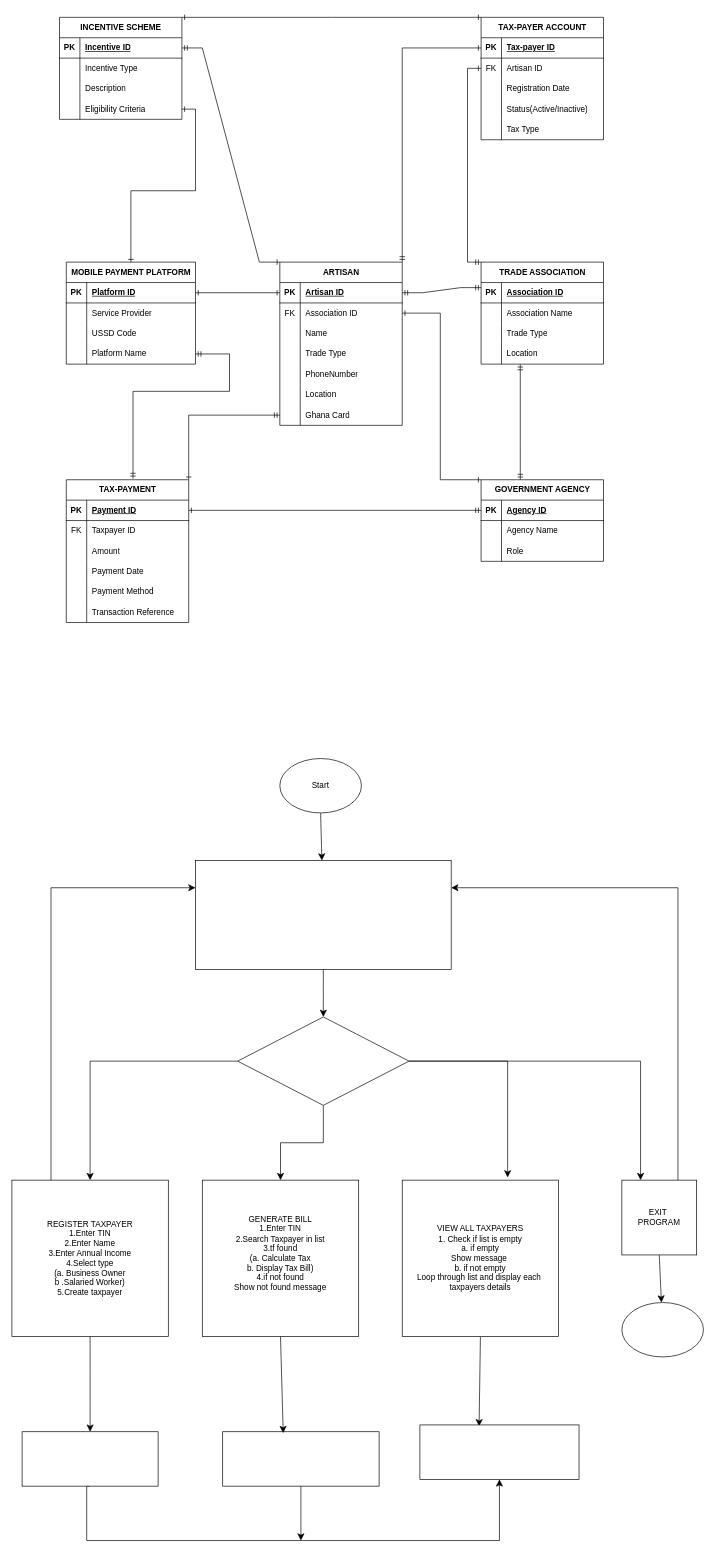
Some shapes in this 715 by 1559 pixel diagram are drawn without their labels. Here are the shapes that lost their labels. From the top down, the centre of each, then its label:
At (323,914): "Display menu 1.Register Taxpayer 2.Generate Bill 3.View All Taxpayers 4.Exit".
At (323,1060): "User Selects Options".
At (662,1329): "END".
At (89,1458): "Registration Successful".
At (300,1458): "Bill Displayed".
At (499,1451): "All Tax payers Displayed".
